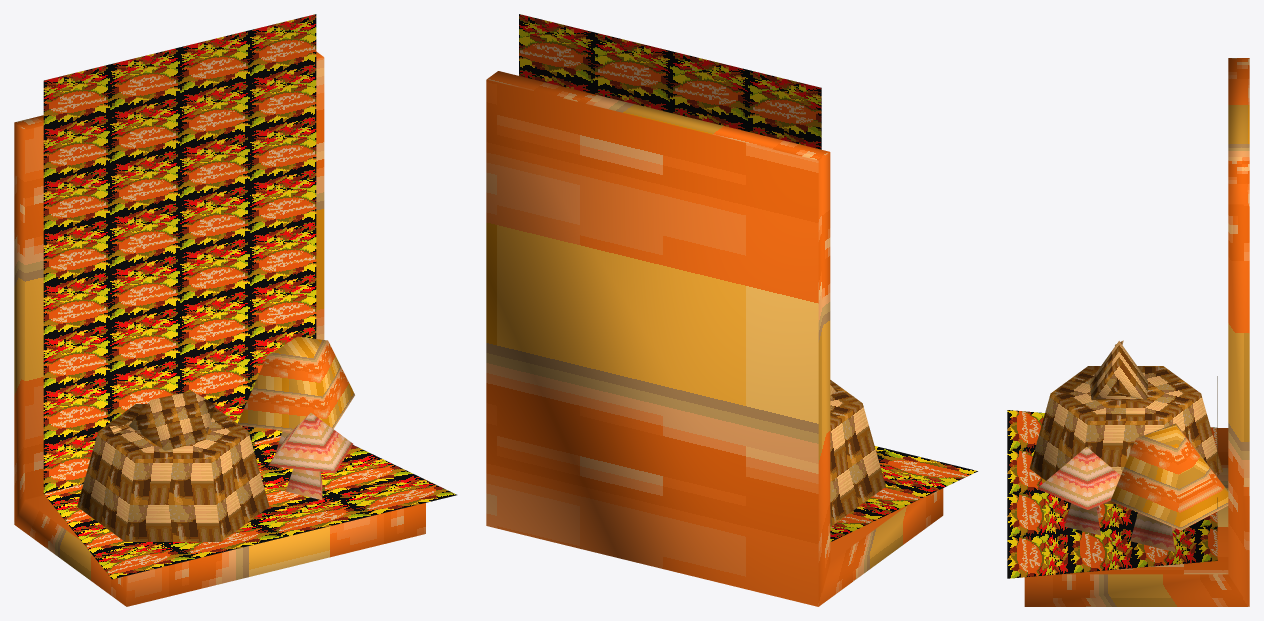
3 views of the same model, side by side, from view 1: azimuth 30°, elevation 25°; view 2: azimuth 150°, elevation 25°; view 3: azimuth 270°, elevation 25° (orthographic). The views are drawn at different scales.
Parts seen in each view (by area): view 1: 3775kg_sh0_22; view 2: 3775kg_sh0_22; view 3: 3775kg_sh0_22.
Part boxes in pixels (bbox=[...]): 3775kg_sh0_22: bbox=[14, 14, 456, 606]; 3775kg_sh0_22: bbox=[486, 14, 977, 606]; 3775kg_sh0_22: bbox=[1007, 58, 1249, 606].
Size of the model in its own units: 1.48 by 1.86 by 0.8999.
Materials: 4 (4 with a texture image).
